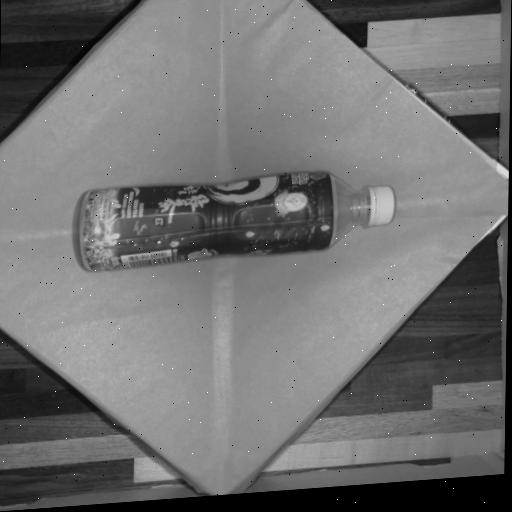bottle: (80, 173, 394, 270)
